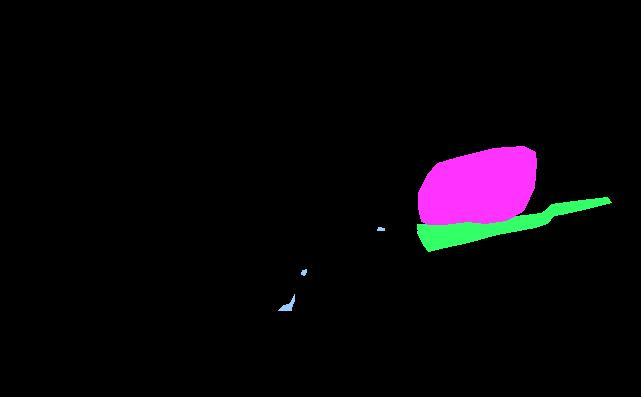Broken part: (417, 197, 611, 251)
Corrosion: (417, 221, 481, 233), (278, 294, 294, 310), (301, 269, 306, 275), (377, 227, 384, 230)
Dent: (418, 146, 536, 224)
